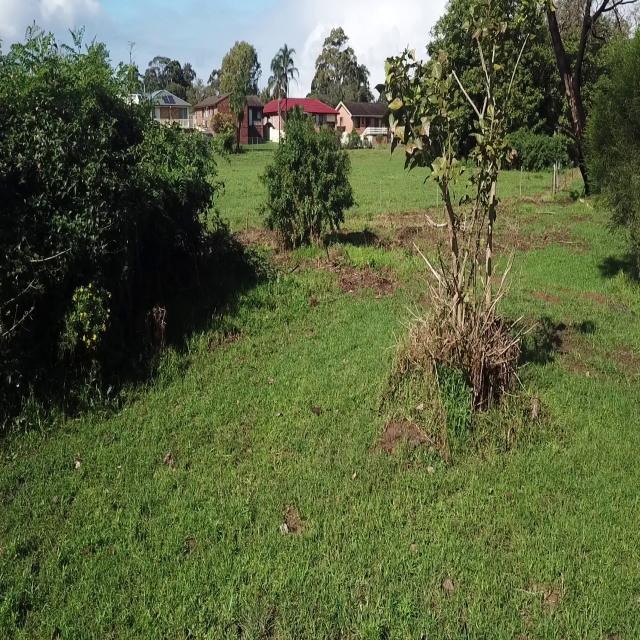Mysore-Thorn-Weed: (240, 239, 278, 275)
